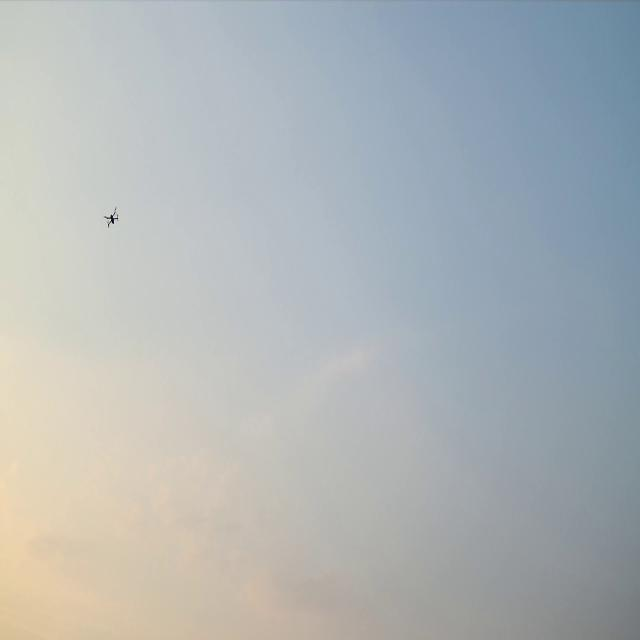UAV: (104, 210, 118, 227)
